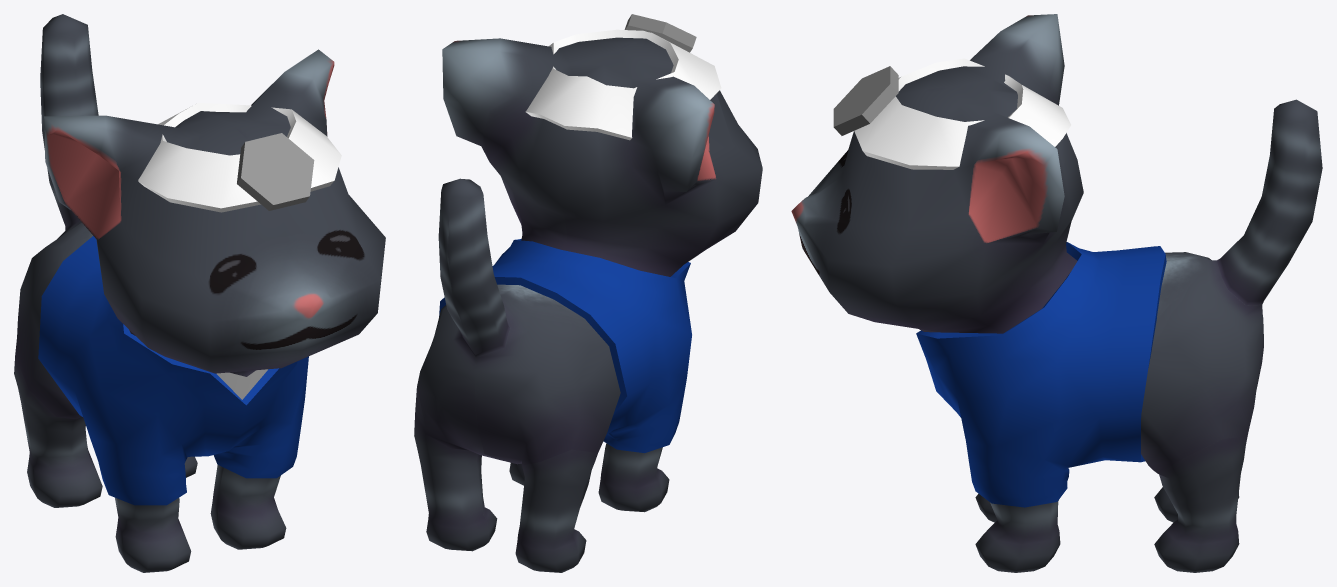
The model's file is Dentist Cat04.fbx.
3 renders of one model, left to right at view 1: azimuth 30°, elevation 25°; view 2: azimuth 150°, elevation 25°; view 3: azimuth 270°, elevation 25°, orthographic. The views are drawn at different scales.
Parts seen in each view (by area): view 1: Cat_Base003, Dentist_Cat_Scrubs, Dentist_Cat_Headband; view 2: Cat_Base003, Dentist_Cat_Scrubs, Dentist_Cat_Headband; view 3: Cat_Base003, Dentist_Cat_Scrubs, Dentist_Cat_Headband.
Boxes of the visible parts, bbox=[...] form: Cat_Base003: bbox=[14, 14, 385, 572]; Dentist_Cat_Scrubs: bbox=[38, 236, 308, 505]; Dentist_Cat_Headband: bbox=[138, 103, 341, 212]; Cat_Base003: bbox=[414, 37, 762, 572]; Dentist_Cat_Scrubs: bbox=[439, 239, 691, 453]; Dentist_Cat_Headband: bbox=[525, 14, 721, 140]; Cat_Base003: bbox=[791, 14, 1322, 572]; Dentist_Cat_Scrubs: bbox=[916, 242, 1166, 507]; Dentist_Cat_Headband: bbox=[833, 58, 1070, 169].
Size of the model in its own units: 1.75 by 2.83 by 2.72.
Materials: 4 (1 with a texture image).
